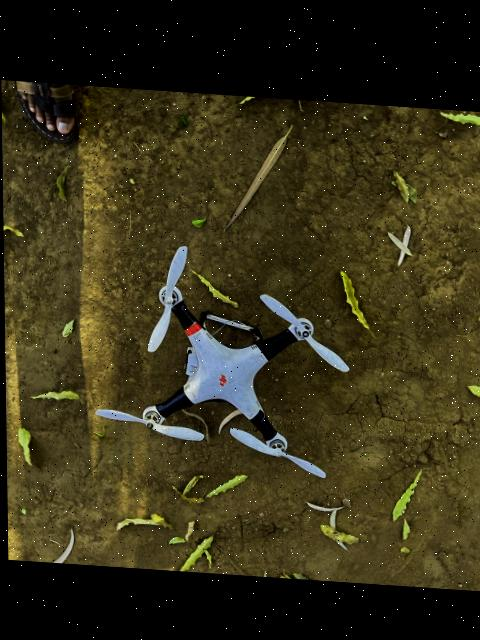drone: (18, 218, 420, 506)
